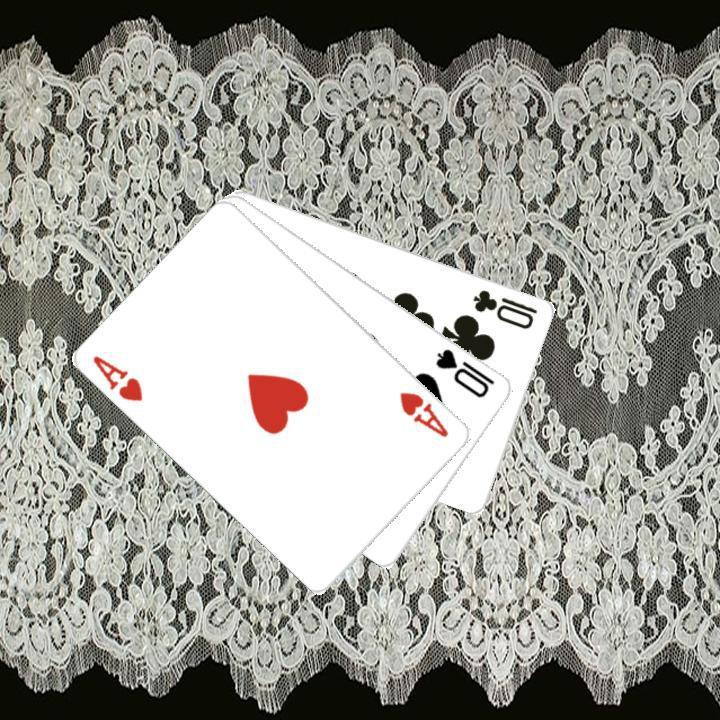10: (431, 344, 498, 400), (469, 285, 540, 331)
A: (89, 350, 146, 404), (395, 387, 451, 440)
